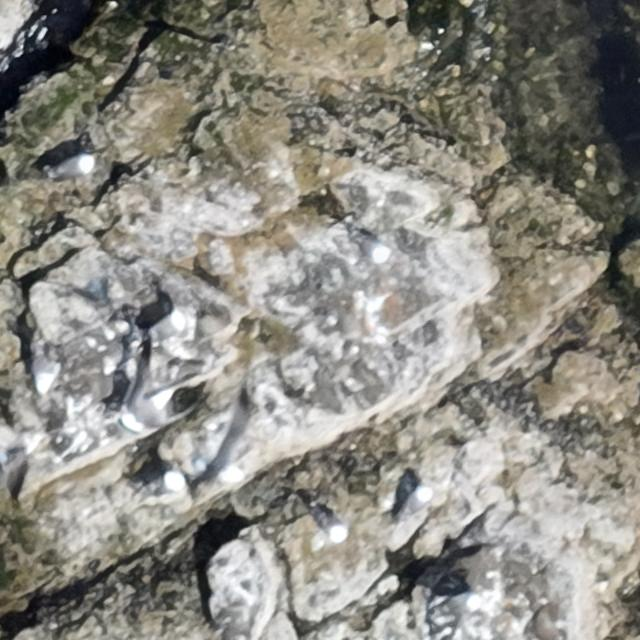umineko: (299, 491, 350, 540), (126, 389, 184, 427), (439, 584, 484, 616), (30, 348, 59, 393), (397, 482, 432, 517), (154, 314, 192, 344), (362, 231, 391, 267), (154, 470, 190, 493), (54, 156, 90, 176)
